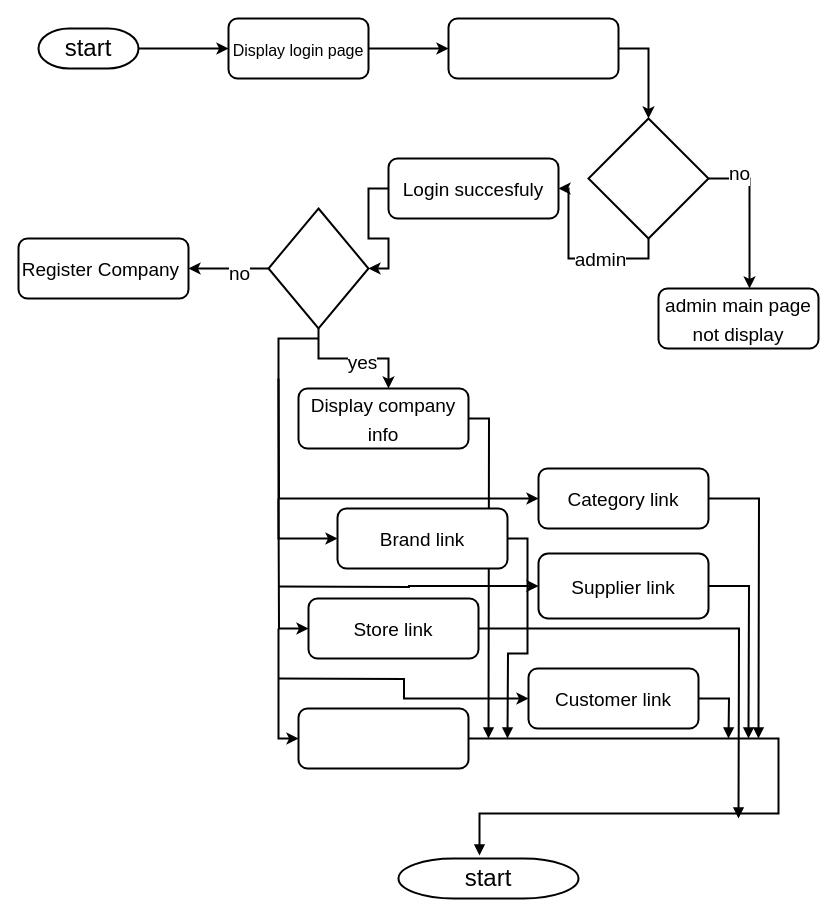
The diagram is 836 pixels wide and 916 high, and some of its shapes have lost their labels. Here are the shapes that lost their labels. From the top down, the centre of each, then its label:
At [533,48]: "Enter username and password".
At [648,178]: "Check user role".
At [318,268]: "Already company".
At [383,738]: "User link".
